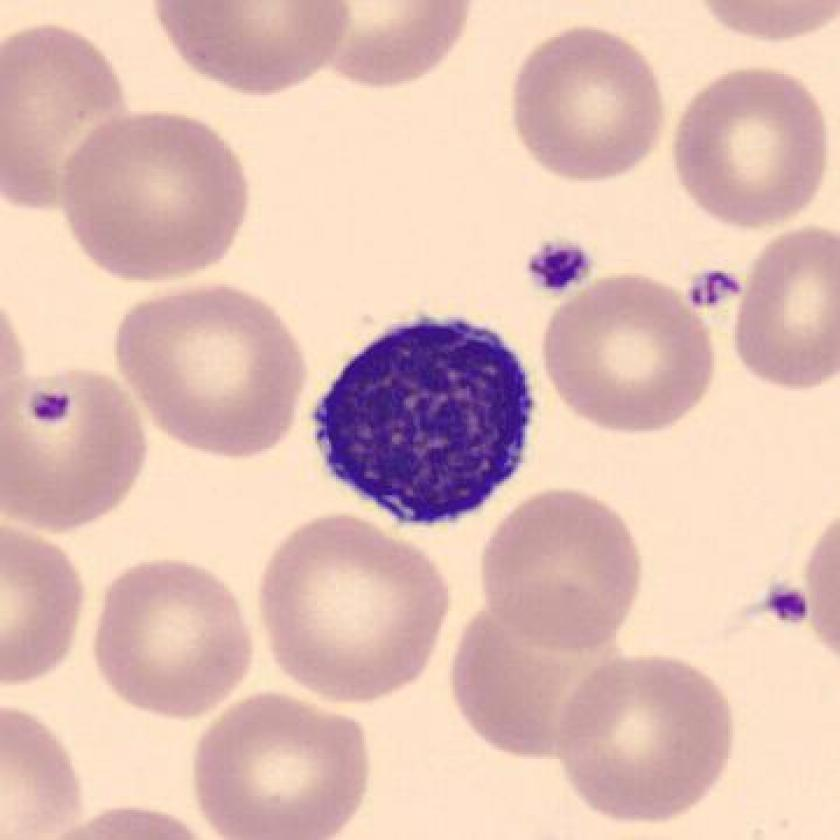lymphocyte: (293, 297, 552, 552)
platelets: (523, 239, 598, 296), (684, 264, 748, 313), (756, 581, 815, 631), (27, 382, 75, 430)
